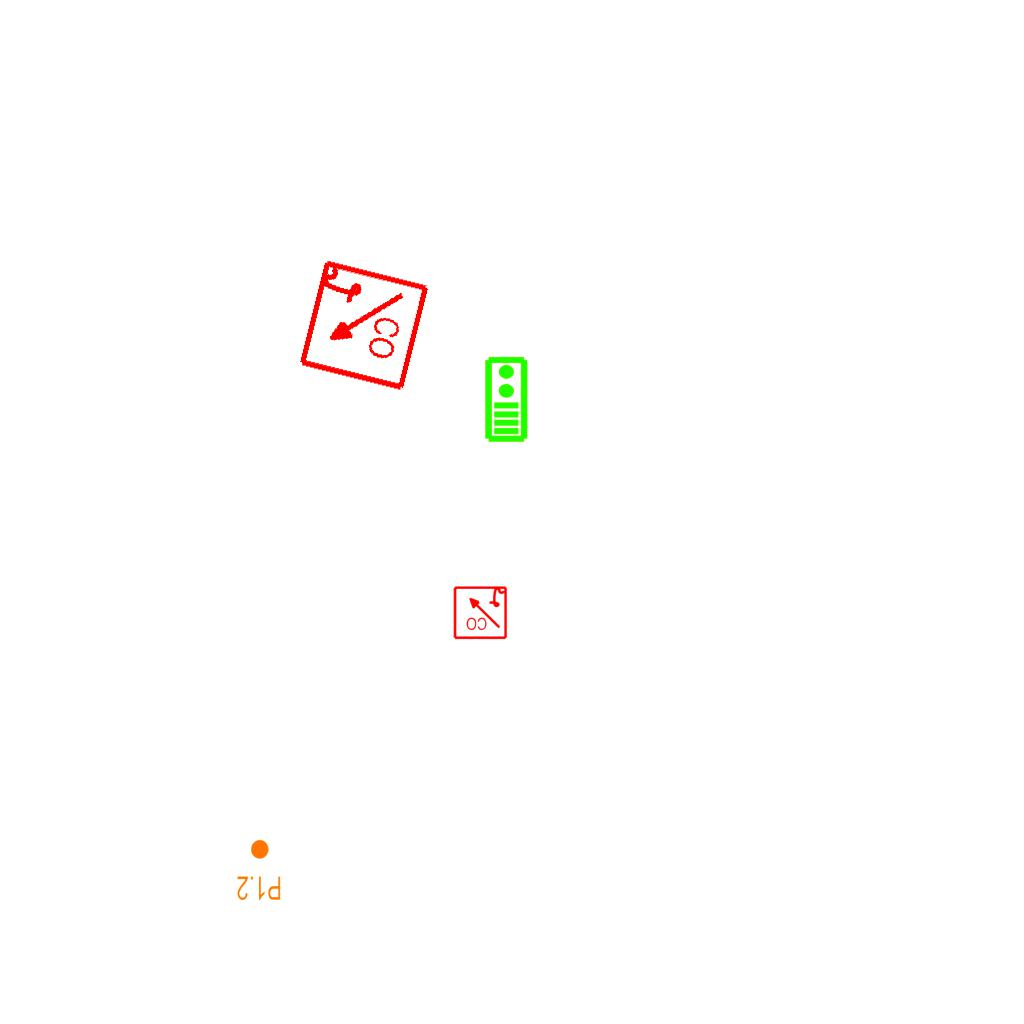Downlight_LED_Einbauleuchten_Flur: (236, 838, 282, 902)
Gegensprechanlage_mit_Video: (482, 355, 529, 443)
ROA_Rauchmelder_optisch_mit_Signalgeber_(Sockelsirene): (294, 257, 431, 394), (452, 584, 508, 640)
